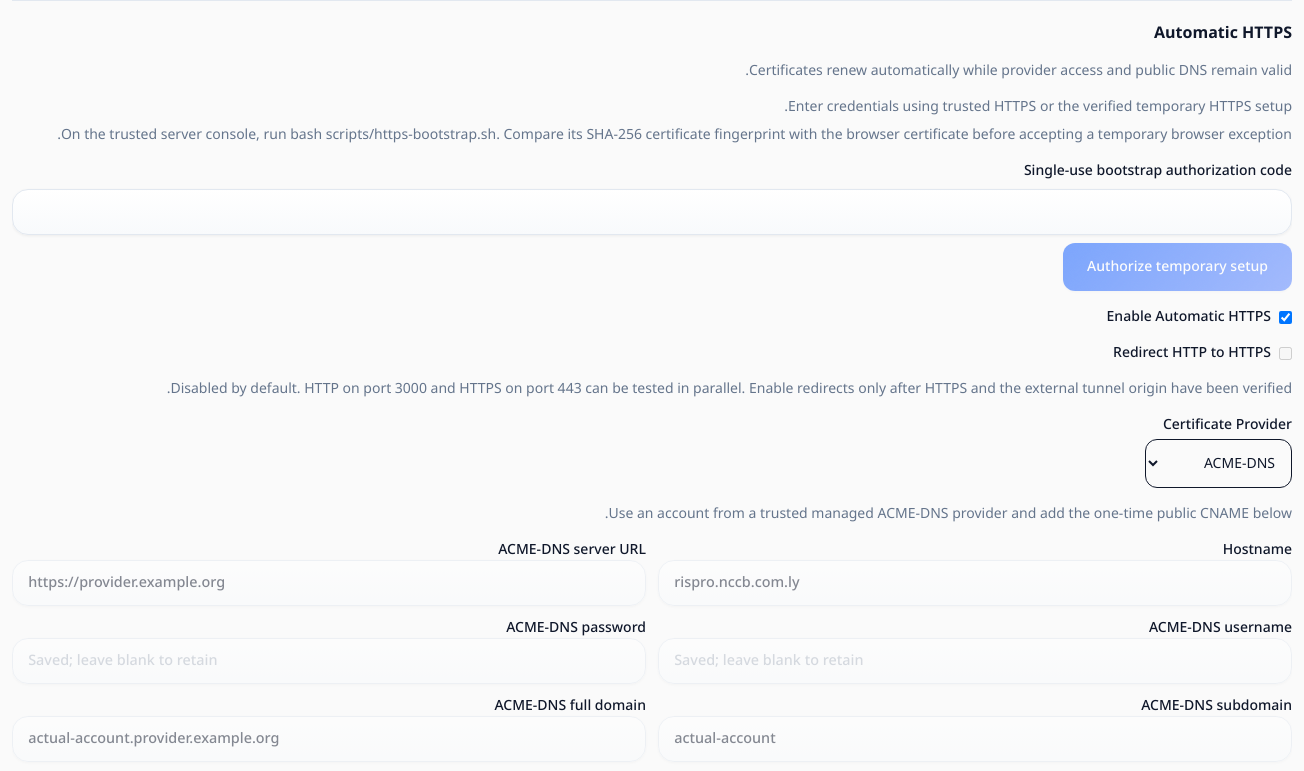
Test: requires a console code before enabling temporary HTTPS credentials
This screenshot has width=1304, height=771.
Expected: the password field labelled "ACME-DNS password" is disabled, x1=12 y1=638 x2=646 y2=684
In the password field labelled "Single-use bootstrap authorization code": [652, 212] box x1=12 y1=189 x2=1292 y2=235, type "0123456789abcdef"
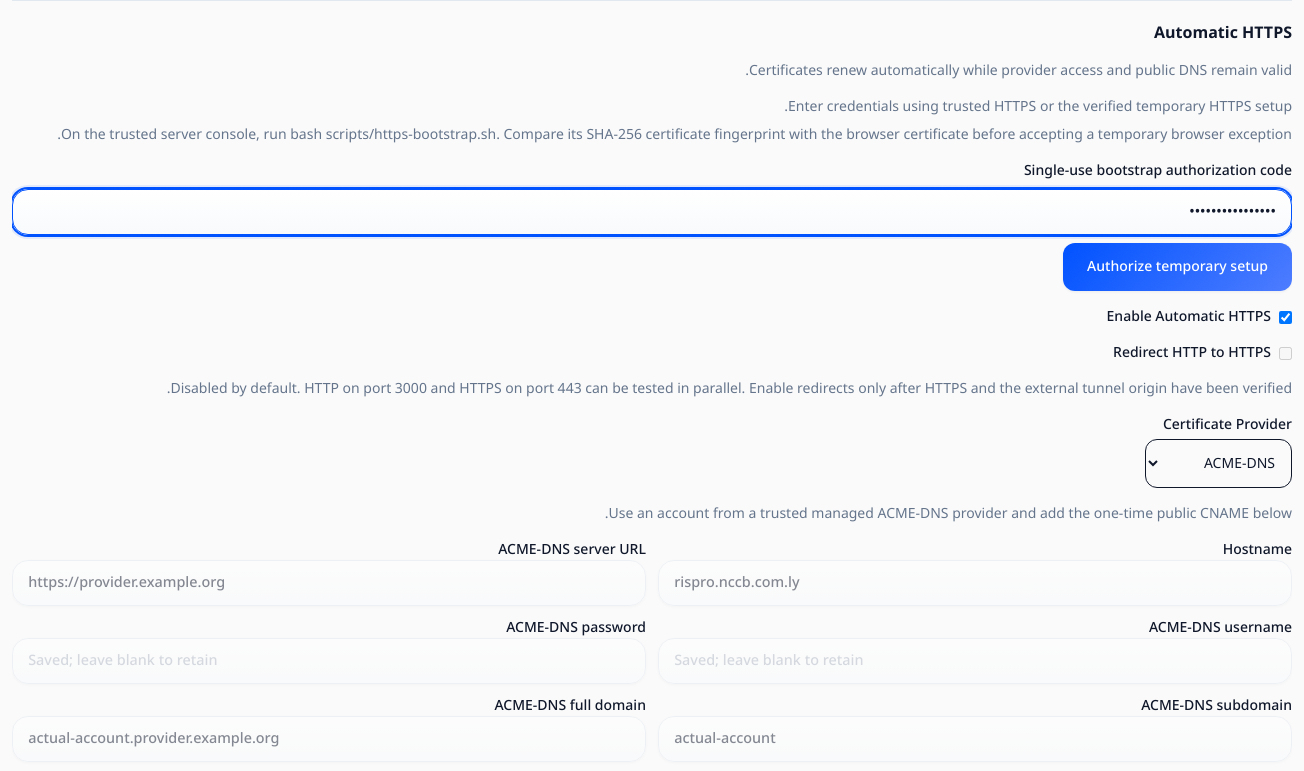
Click the button "Authorize temporary setup": [1178, 267] box x1=1063 y1=243 x2=1292 y2=291
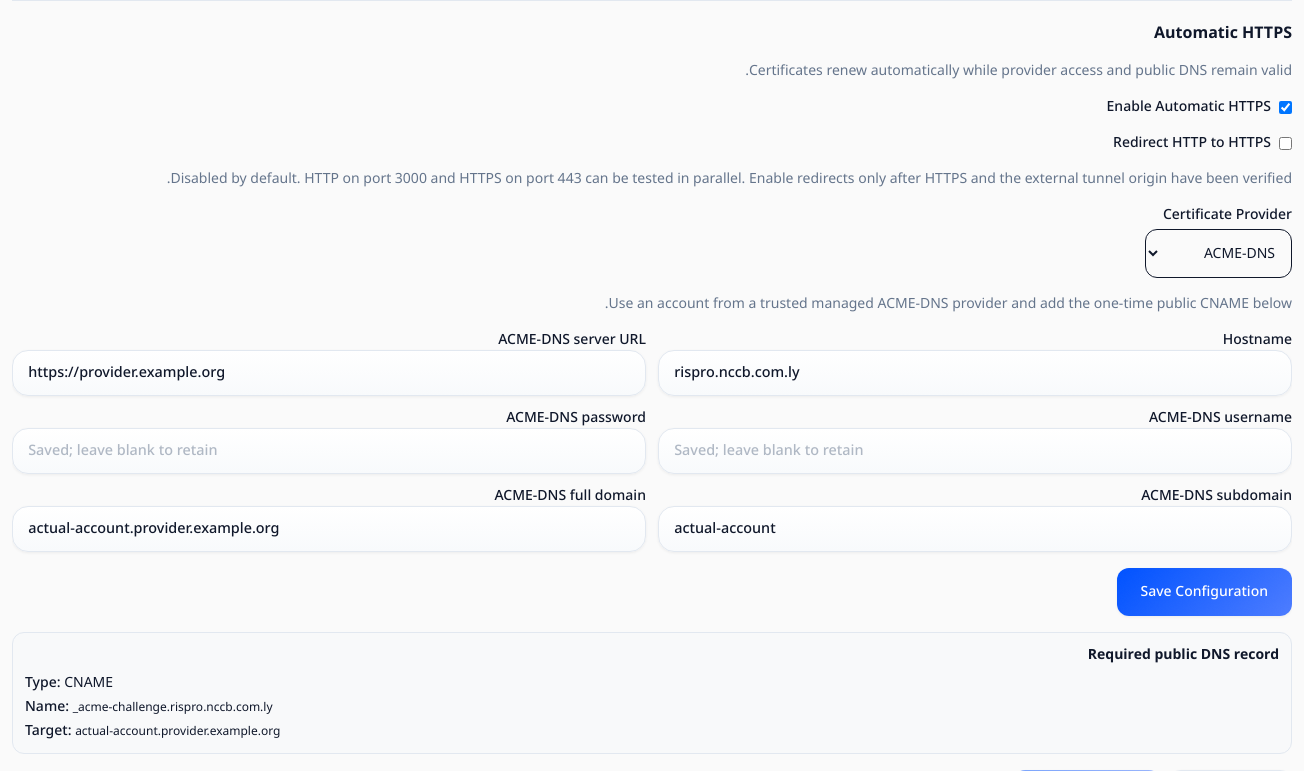
Expected: the password field labelled "ACME-DNS password" is enabled, x1=12 y1=428 x2=646 y2=474
